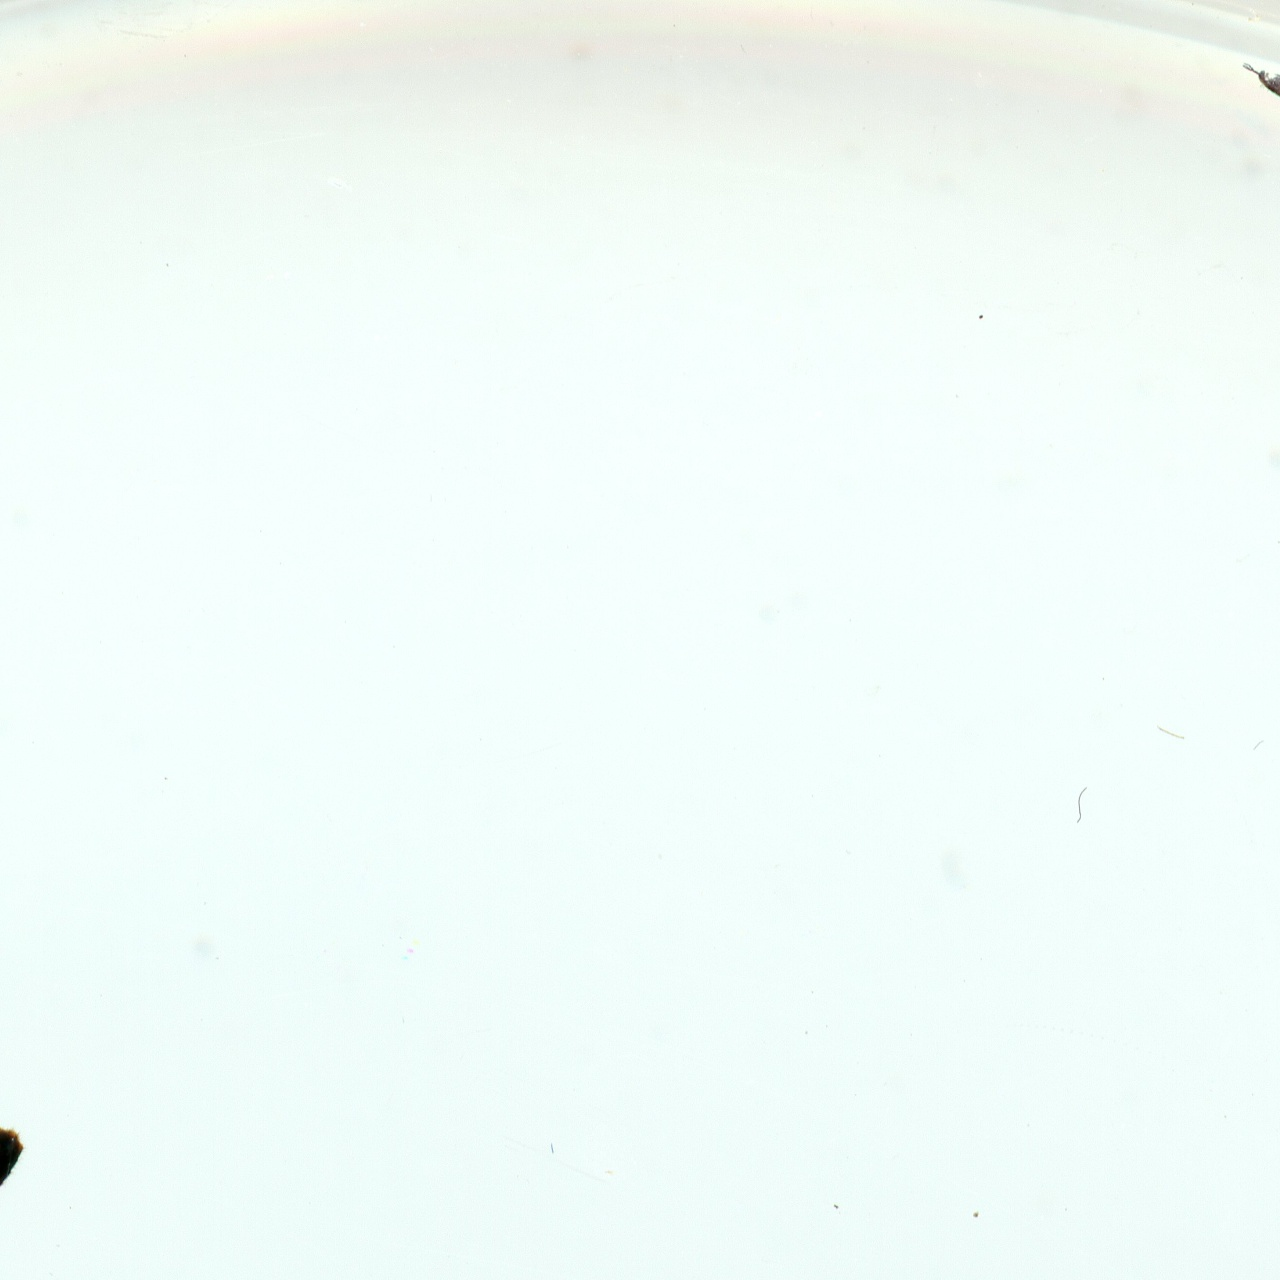arthropod: (0, 1084, 48, 1280), (1224, 28, 1280, 151)
